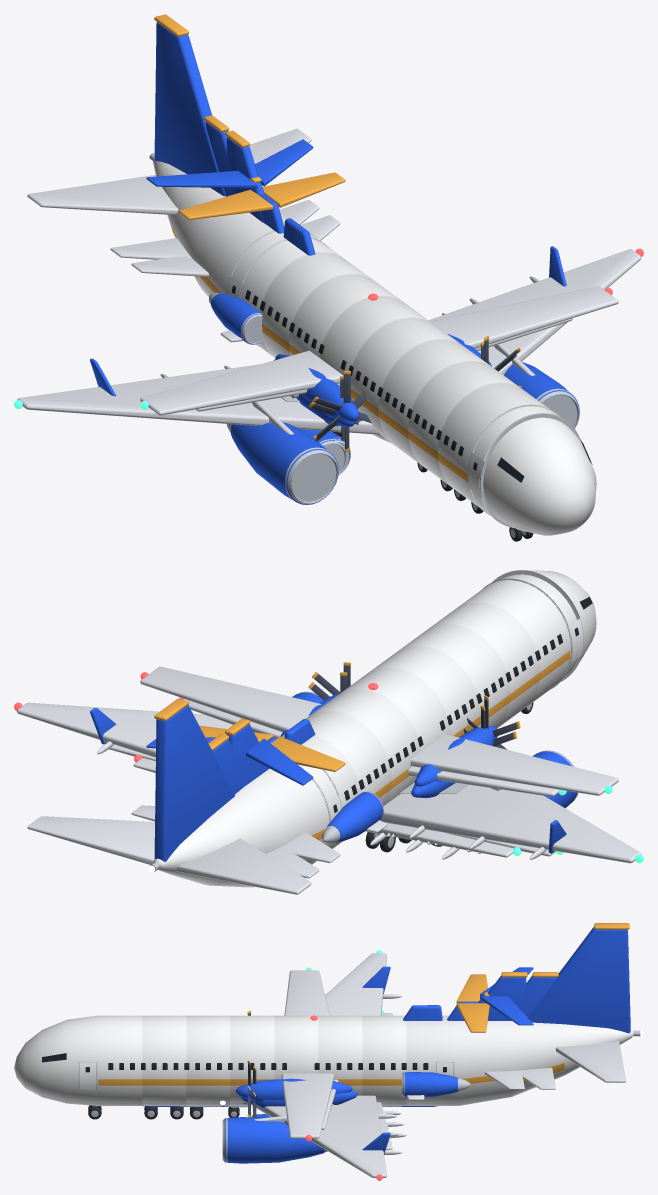
Rendered from aircraft.glb.
The picture shows the model from 3 angles, top to bottom: view 1: azimuth 30°, elevation 25°; view 2: azimuth 150°, elevation 25°; view 3: azimuth 270°, elevation 25°; orthographic projection. The views are drawn at different scales.
Parts seen in each view (by area): view 1: jet_d_body, prop_a_body, jet_c_body, jet_b_body, jet_a_body, prop_b_body, prop_a_prop_right; view 2: jet_d_body, prop_a_body, jet_c_body, jet_b_body, prop_b_body, jet_a_body, prop_a_prop_right; view 3: jet_d_body, prop_a_body, jet_c_body, jet_b_body, jet_a_body, prop_b_body.
Boxes of the visible parts, box(x1,y1,x2,y2) form: jet_d_body: box(17, 14, 641, 535); prop_a_body: box(140, 172, 618, 418); jet_c_body: box(146, 139, 445, 344); jet_b_body: box(90, 115, 566, 474); jet_a_body: box(131, 130, 350, 474); prop_b_body: box(196, 218, 572, 426); prop_a_prop_right: box(312, 370, 371, 452); jet_d_body: box(17, 570, 641, 894); prop_a_body: box(140, 666, 618, 795); jet_c_body: box(133, 736, 513, 859); jet_b_body: box(90, 708, 566, 878); prop_b_body: box(183, 699, 558, 832); jet_a_body: box(131, 718, 471, 862); prop_a_prop_right: box(467, 695, 520, 749); jet_d_body: box(14, 923, 640, 1177); prop_a_body: box(250, 970, 489, 1138); jet_c_body: box(377, 967, 533, 1149); jet_b_body: box(143, 966, 558, 1153); jet_a_body: box(180, 972, 527, 1138); prop_b_body: box(231, 993, 442, 1129).
Bounding box in the file's own units: 20.75 × 8.23 × 24.35.
